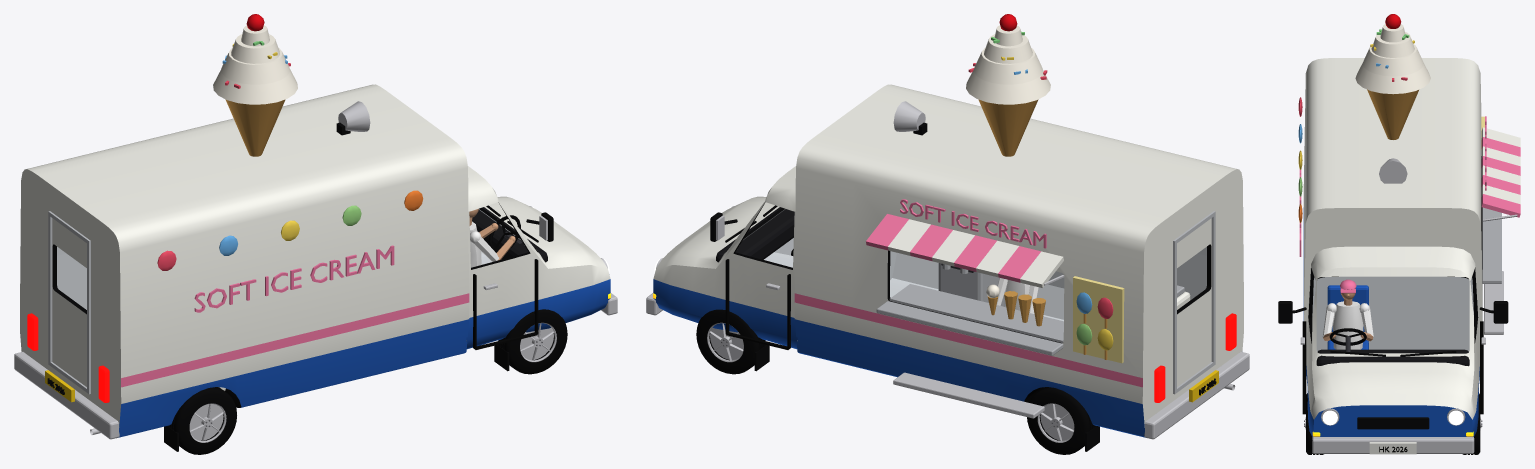
The model's file is icecream.glb.
The picture shows the model from 3 angles, left to right: view 1: azimuth 30°, elevation 25°; view 2: azimuth 150°, elevation 25°; view 3: azimuth 270°, elevation 25°; orthographic projection. The views are drawn at different scales.
Parts seen in each view (by area): view 1: cab; view 2: cab; view 3: cab.
Boxes of the visible parts, <box> form: cab: <box>14,14,617,454</box>; cab: <box>646,14,1249,454</box>; cab: <box>1278,14,1520,454</box>.
Bounding box in the file's own units: 5.94 × 4.13 × 2.7.
